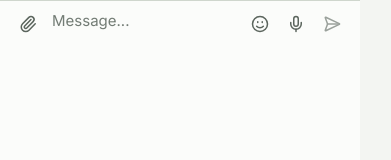
Test case: MessageInput attachments › restores the composer when microphone permission is denied
This screenshot has width=391, height=160.
Click the button named "Record voice message".
click(296, 24)  # box [280,8,312,40]
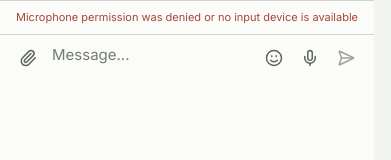
Expected: the text "Microphone permission was denied" is shown, [16,10,358,24]
